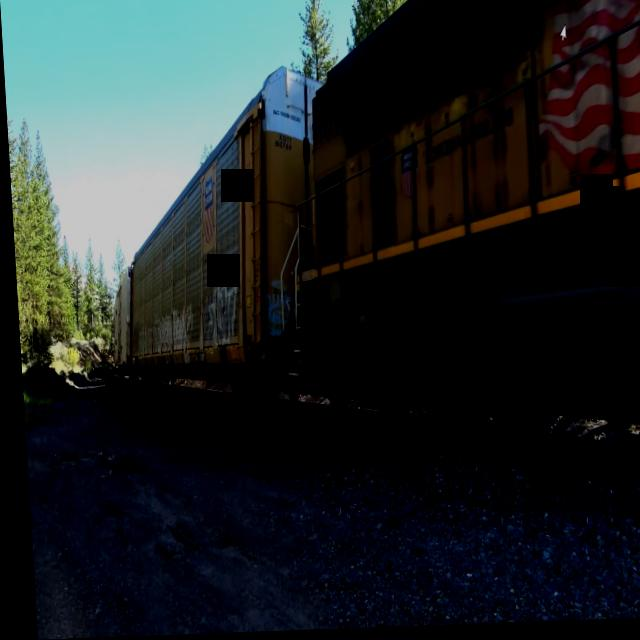autorack: (109, 55, 338, 410)
locomotive: (272, 0, 640, 458)
